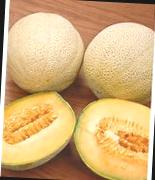Melon Ripe: (73, 96, 151, 180), (6, 12, 84, 94), (0, 88, 76, 172), (81, 19, 154, 102)
